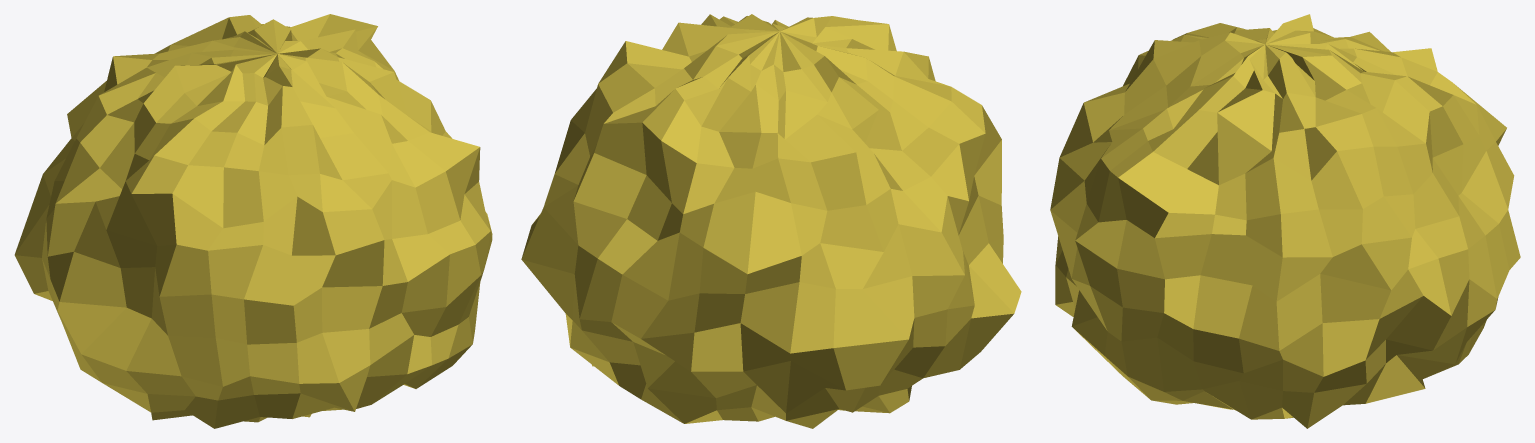
Rendered from buisson désert.fbx.
The picture shows the model from 3 angles, left to right: view 1: azimuth 30°, elevation 25°; view 2: azimuth 150°, elevation 25°; view 3: azimuth 270°, elevation 25°; orthographic projection. The views are drawn at different scales.
Parts seen in each view (by area): view 1: Sphere; view 2: Sphere; view 3: Sphere.
Boxes of the visible parts, <box> form: Sphere: <box>14,14,492,428</box>; Sphere: <box>521,14,1021,428</box>; Sphere: <box>1050,14,1520,428</box>.
Bounding box in the file's own units: 175 × 139 × 170.
